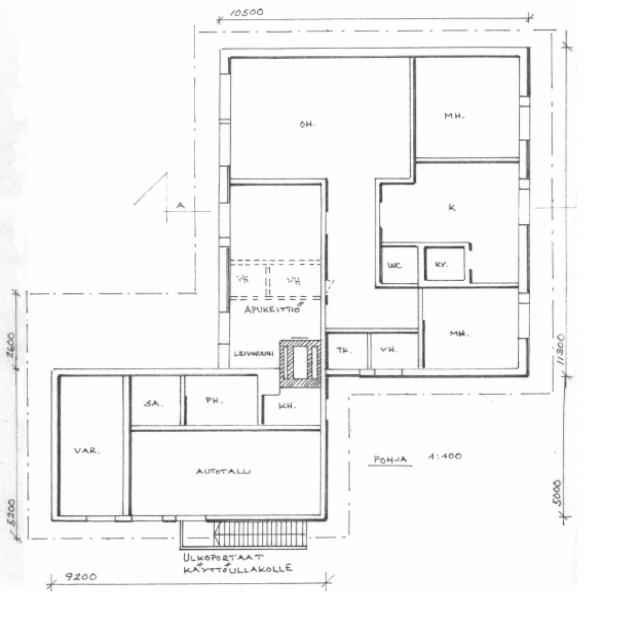door: (466, 248, 493, 273)
window: (515, 174, 534, 230), (516, 91, 535, 146), (515, 291, 533, 343), (218, 70, 235, 124), (218, 118, 235, 172), (219, 197, 234, 250), (518, 139, 534, 181), (129, 512, 171, 525), (80, 513, 120, 525), (173, 513, 210, 525), (374, 198, 386, 232), (320, 207, 332, 238), (321, 396, 332, 424)
zone: (224, 55, 414, 179), (130, 428, 328, 518), (381, 161, 524, 249), (410, 55, 526, 163), (58, 373, 128, 520), (420, 286, 527, 376), (227, 257, 322, 355), (226, 183, 325, 271), (182, 373, 260, 429), (130, 374, 184, 429), (260, 389, 324, 430), (370, 331, 420, 374), (326, 331, 370, 376), (379, 245, 420, 288), (424, 246, 467, 285)
